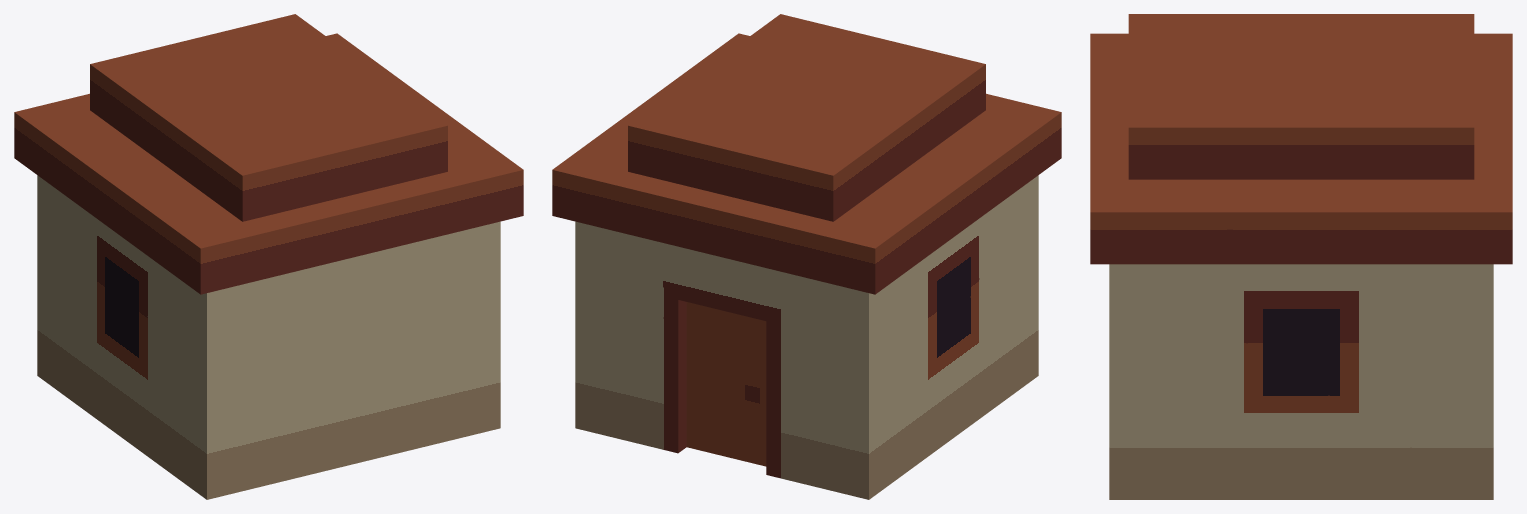
File: house.dae
3 renders of one model, left to right at view 1: azimuth 30°, elevation 25°; view 2: azimuth 150°, elevation 25°; view 3: azimuth 270°, elevation 25°, orthographic. The views are drawn at different scales.
Parts seen in each view (by area): view 1: house.Merged; view 2: house.Merged; view 3: house.Merged.
Boxes of the visible parts, x1,y1,x2,y2 form: house.Merged: (14,14,523,499); house.Merged: (552,14,1061,499); house.Merged: (1090,14,1512,499).
Size of the model in its own units: 5.5 by 5.5 by 5.
Materials: 1 (1 with a texture image).
